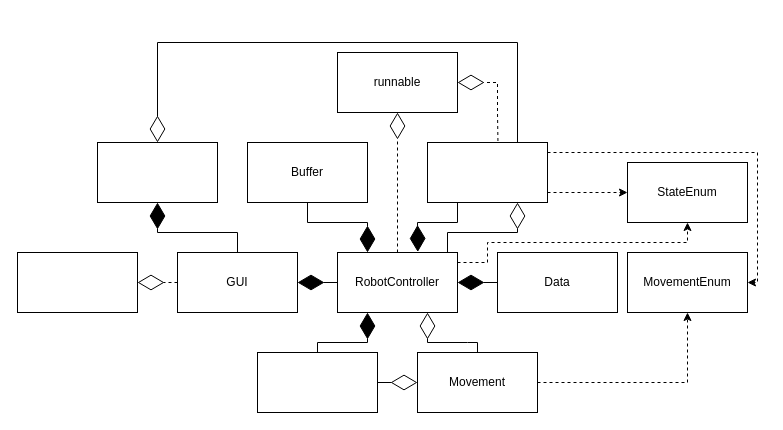
Some shapes in this 783 by 430 pixel diagram are drawn without their labels. Here are the shapes that lost their labels. From the top down, the box of each, then its label:
(96, 142, 218, 202): BufferManager
(426, 142, 548, 202): RandomMovements
(16, 252, 138, 312): ILogger
(256, 352, 378, 412): RobotLegoEV3
